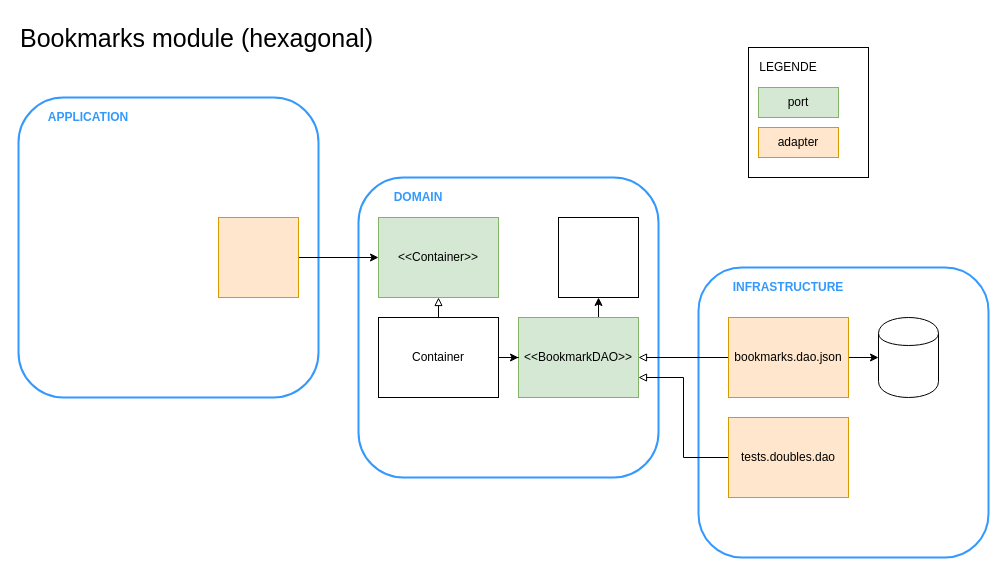
This 1006x575 diagram has some shape labels left out. Here are the shapes that lost their labels. From the top down, the centre of each, then its label:
At (x=258, y=257): "Test".
At (x=598, y=257): "Bookmark".
At (x=908, y=357): "db.json".
